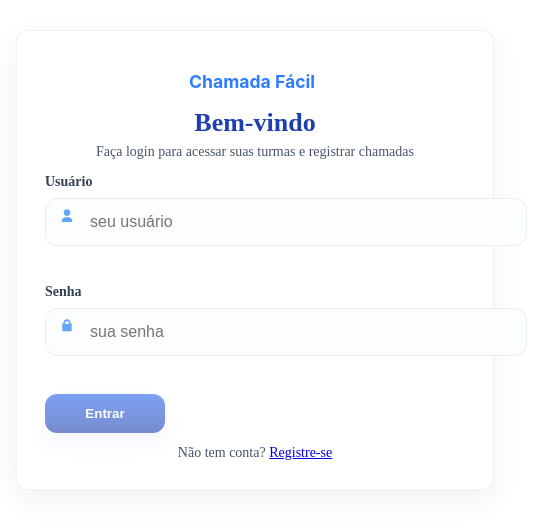
Test: Login › shows validation error for wrong credentials
Type "wrong" into the field with placeholder "seu usuário" at (286, 222), box [45,198,527,246]
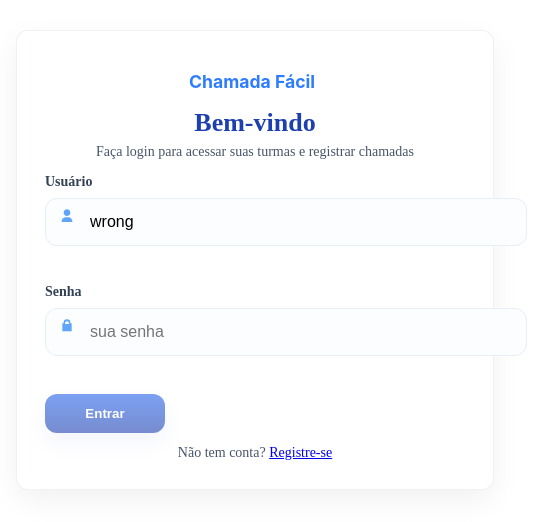
Type "nope" into the password field with placeholder "sua senha" at (286, 332), box [45,308,527,356]
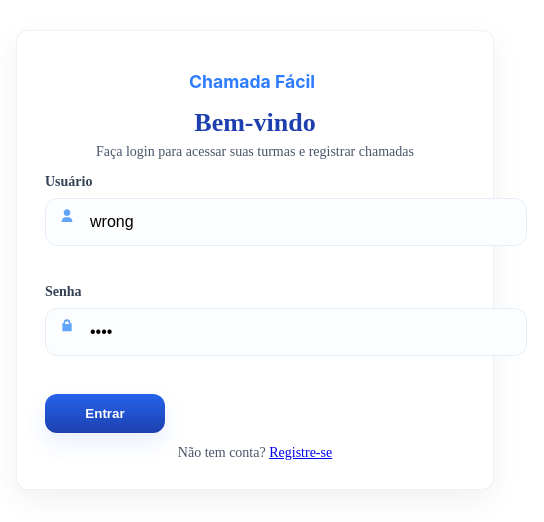
Click the button "Entrar" at (105, 413), box [45,394,165,433]
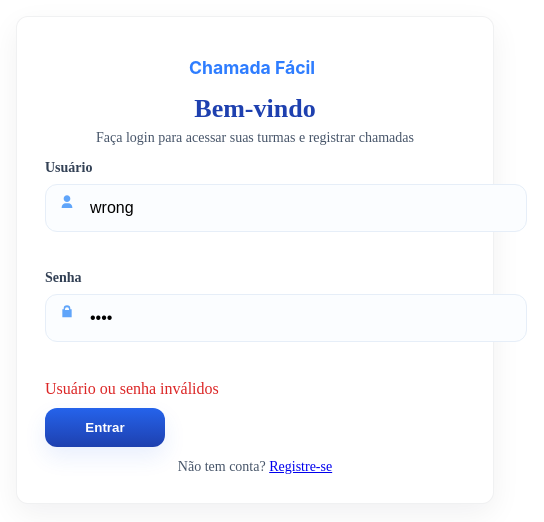
Expected: the text "Usuário ou senha inválidos" is shown, [45,380,219,397]
